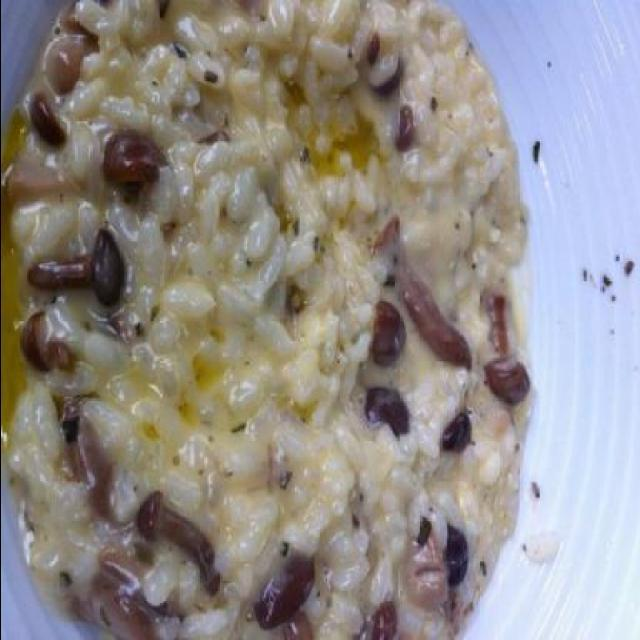Risotto: (20, 8, 511, 602)
